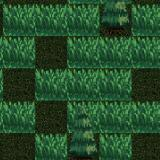Obstacle: (100, 4, 131, 36), (67, 133, 99, 160)
Slow: (35, 68, 132, 101), (3, 4, 100, 36), (67, 101, 160, 133), (68, 36, 160, 68), (0, 101, 36, 133), (0, 36, 35, 68), (99, 133, 133, 160), (132, 4, 160, 36), (36, 133, 67, 160)
